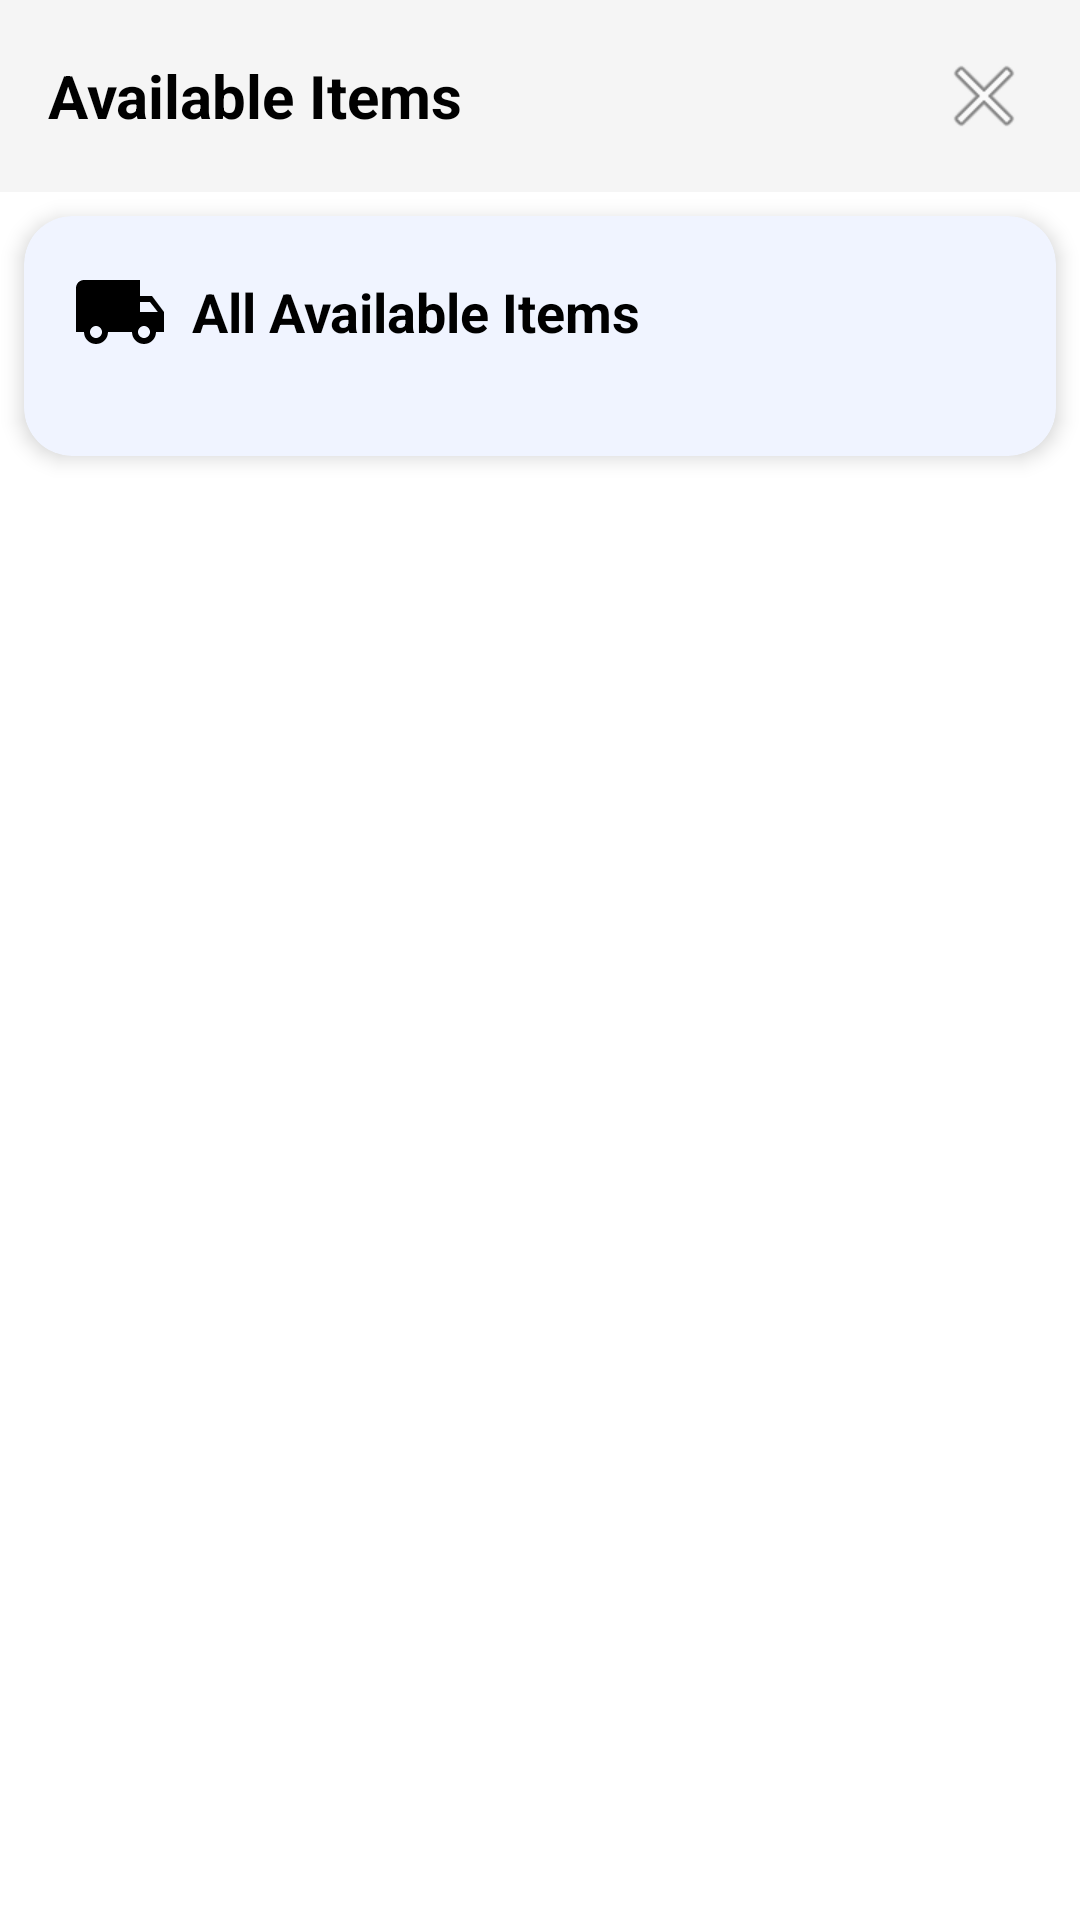

Named icons in this screenshot (1080px x 1920px) and their centers, [x,y]:
Close: [984,96]
Package Icon: [120,312]
